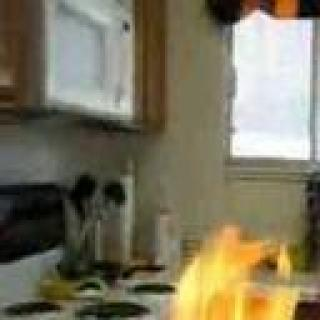fire: (159, 227, 312, 320)
